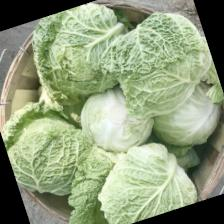cabbage: (90, 0, 224, 128), (21, 0, 142, 110), (0, 87, 103, 208), (84, 129, 200, 224), (72, 75, 162, 164), (141, 69, 224, 157)
